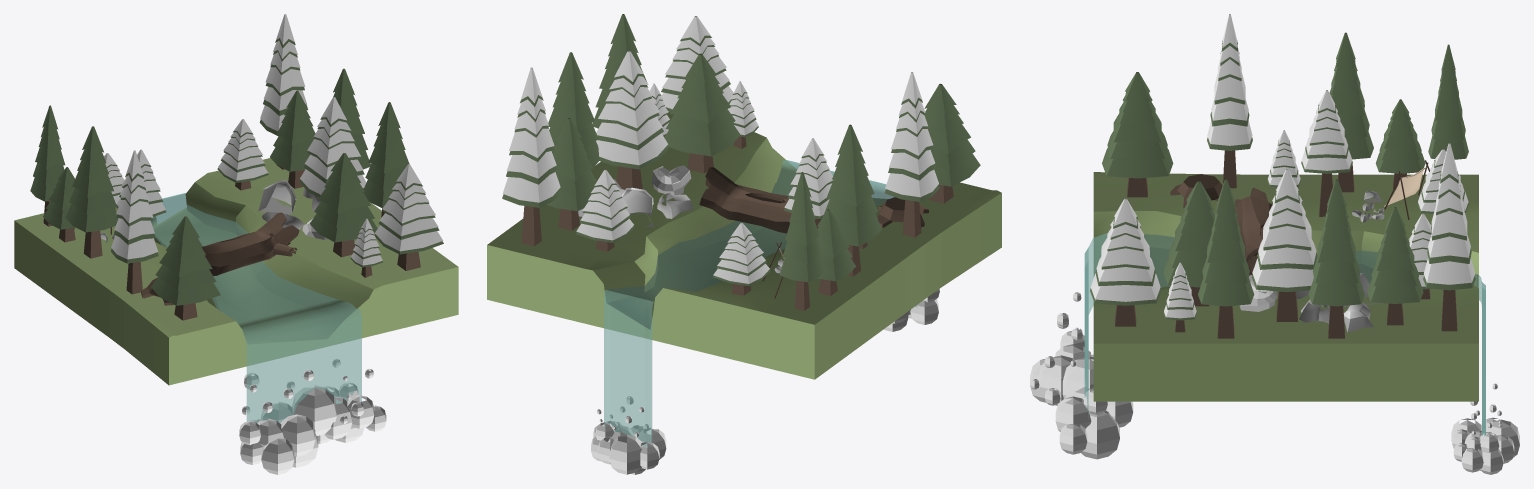
Rendered from Forest.glb.
3 renders of one model, left to right at view 1: azimuth 30°, elevation 25°; view 2: azimuth 150°, elevation 25°; view 3: azimuth 270°, elevation 25°, orthographic. The views are drawn at different scales.
Visible parts, largest first — view 1: pPlane1, pPlane4, polySurface7, pCube25, pCube40, pCube45, pCube20, pCube41, pCube22, pPipe1, pCube23, pCube26 (+9 smaller); view 2: pPlane1, pPlane4, pCube22, pCube23, pCube20, pCube41, pCube45, pCube40, pSphere69, pCube42, pPipe1, pCube21 (+12 smaller); view 3: pPlane1, polySurface7, pCube22, pCube25, pCube23, pCube40, pCube26, pCube27, pCube41, pCube21, pPlane4, pCube45 (+13 smaller).
Part boxes in pixels (x1,y1,x2,y2): pPlane1: [14, 158, 458, 385]; pPlane4: [151, 192, 361, 423]; polySurface7: [239, 359, 386, 474]; pCube25: [374, 164, 443, 270]; pCube40: [151, 216, 220, 320]; pCube45: [65, 126, 118, 258]; pCube20: [309, 153, 377, 257]; pCube41: [111, 150, 158, 294]; pCube22: [299, 97, 366, 197]; pPipe1: [201, 212, 299, 275]; pCube23: [259, 14, 307, 169]; pCube26: [363, 102, 409, 217]; pPlane1: [487, 112, 1001, 379]; pPlane4: [604, 160, 917, 446]; pCube22: [596, 50, 668, 189]; pCube23: [502, 67, 560, 246]; pCube20: [664, 53, 740, 173]; pCube41: [884, 72, 939, 237]; pCube45: [823, 124, 881, 276]; pCube40: [924, 83, 980, 203]; pSphere69: [591, 396, 666, 474]; pCube42: [779, 172, 824, 310]; pPipe1: [699, 167, 821, 233]; pCube21: [546, 118, 596, 230]; pPlane1: [1093, 172, 1478, 401]; polySurface7: [1030, 292, 1133, 459]; pCube22: [1251, 169, 1317, 321]; pCube25: [1090, 198, 1161, 326]; pCube23: [1423, 143, 1475, 331]; pCube40: [1102, 72, 1173, 197]; pCube26: [1198, 179, 1254, 338]; pCube27: [1308, 179, 1364, 338]; pCube41: [1207, 14, 1252, 188]; pCube21: [1367, 207, 1423, 325]; pPlane4: [1084, 233, 1485, 435]; pCube45: [1329, 32, 1373, 192].
Bounding box in the file's own units: 7.54 × 7.74 × 8.91.
